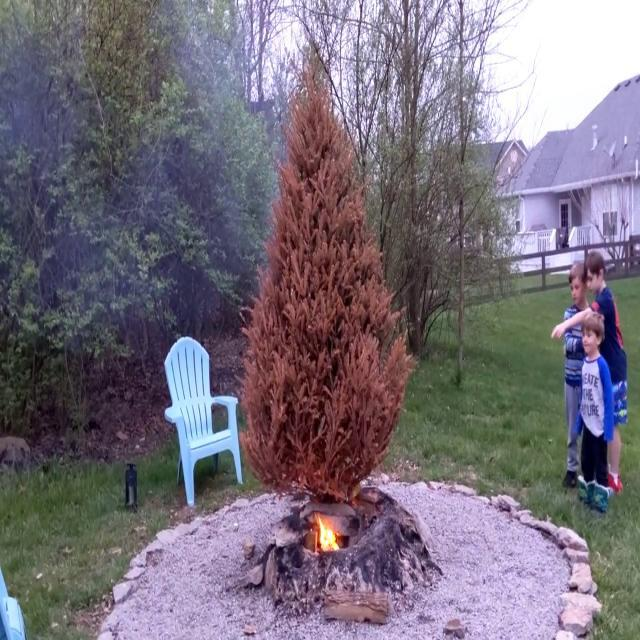Fire: (314, 510, 338, 556)
